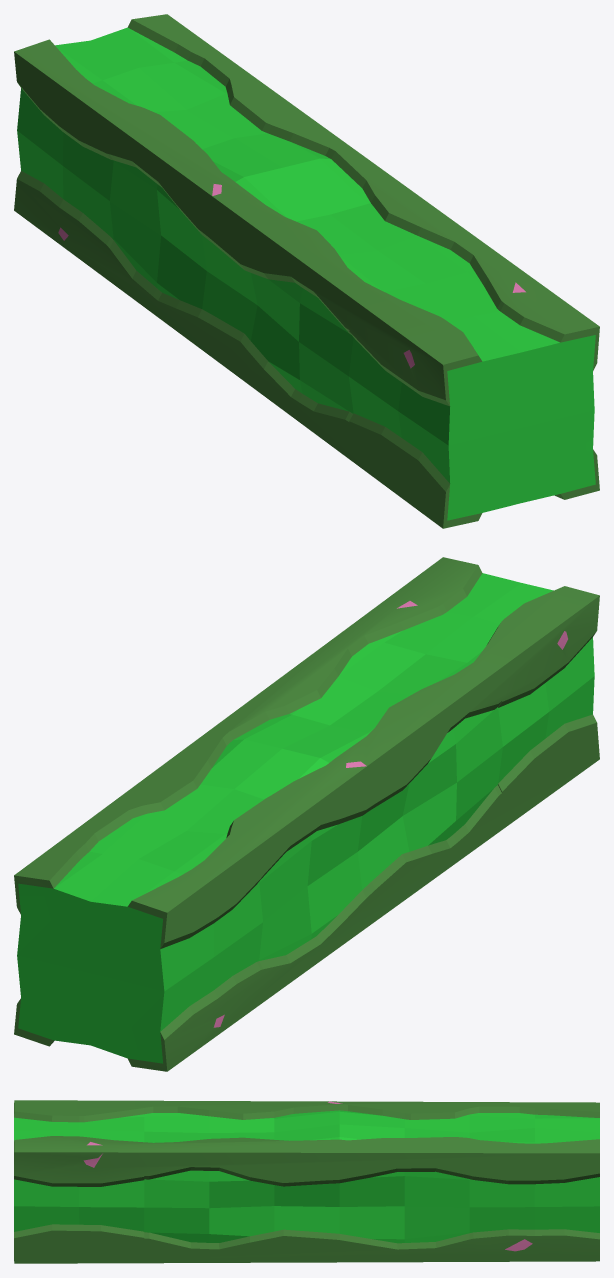
File: park_platform_son.fbx
3 renders of one model, top to bottom at view 1: azimuth 30°, elevation 25°; view 2: azimuth 150°, elevation 25°; view 3: azimuth 270°, elevation 25°, orthographic. The views are drawn at different scales.
Visible parts, largest first — view 1: Cube.001; view 2: Cube.001; view 3: Cube.001.
Part boxes in pixels (<box>): Cube.001: <box>14,14,599,528</box>; Cube.001: <box>14,557,599,1071</box>; Cube.001: <box>14,1100,599,1263</box>.
Bounding box in the file's own units: 492 × 493 × 2179.
